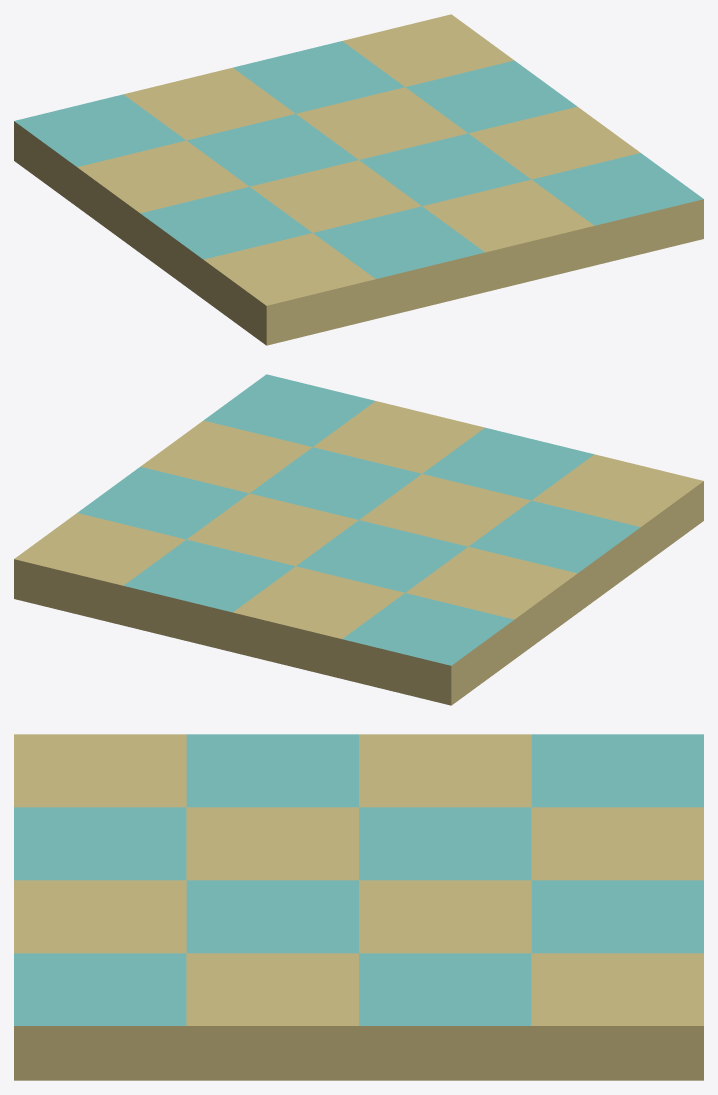
Rendered from KitchenFloorSmall.glb.
The picture shows the model from 3 angles, top to bottom: view 1: azimuth 30°, elevation 25°; view 2: azimuth 150°, elevation 25°; view 3: azimuth 270°, elevation 25°; orthographic projection. The views are drawn at different scales.
Visible parts, largest first — view 1: Cube.022; view 2: Cube.022; view 3: Cube.022.
Part boxes in pixels (x1=…): Cube.022: x1=14, y1=14, x2=703, y2=345; Cube.022: x1=14, y1=374, x2=703, y2=705; Cube.022: x1=14, y1=734, x2=703, y2=1080.
Bounding box in the file's own units: 4 × 0.3482 × 4.
